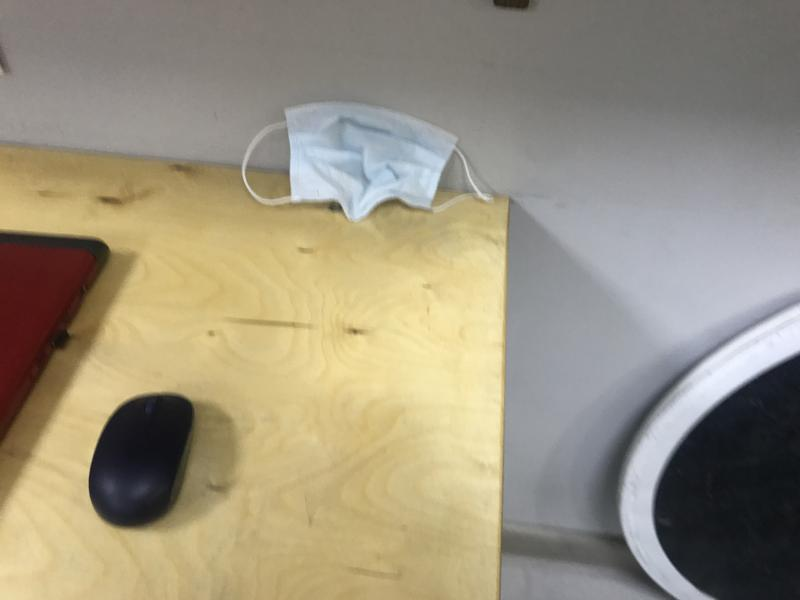medical_mask: (238, 100, 493, 219)
